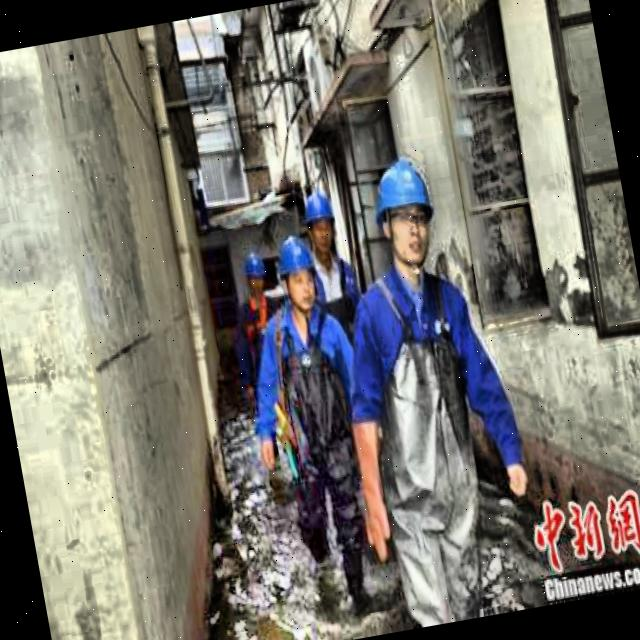helmet: (364, 144, 450, 279), (269, 228, 324, 315), (295, 177, 345, 261), (237, 245, 270, 298)
